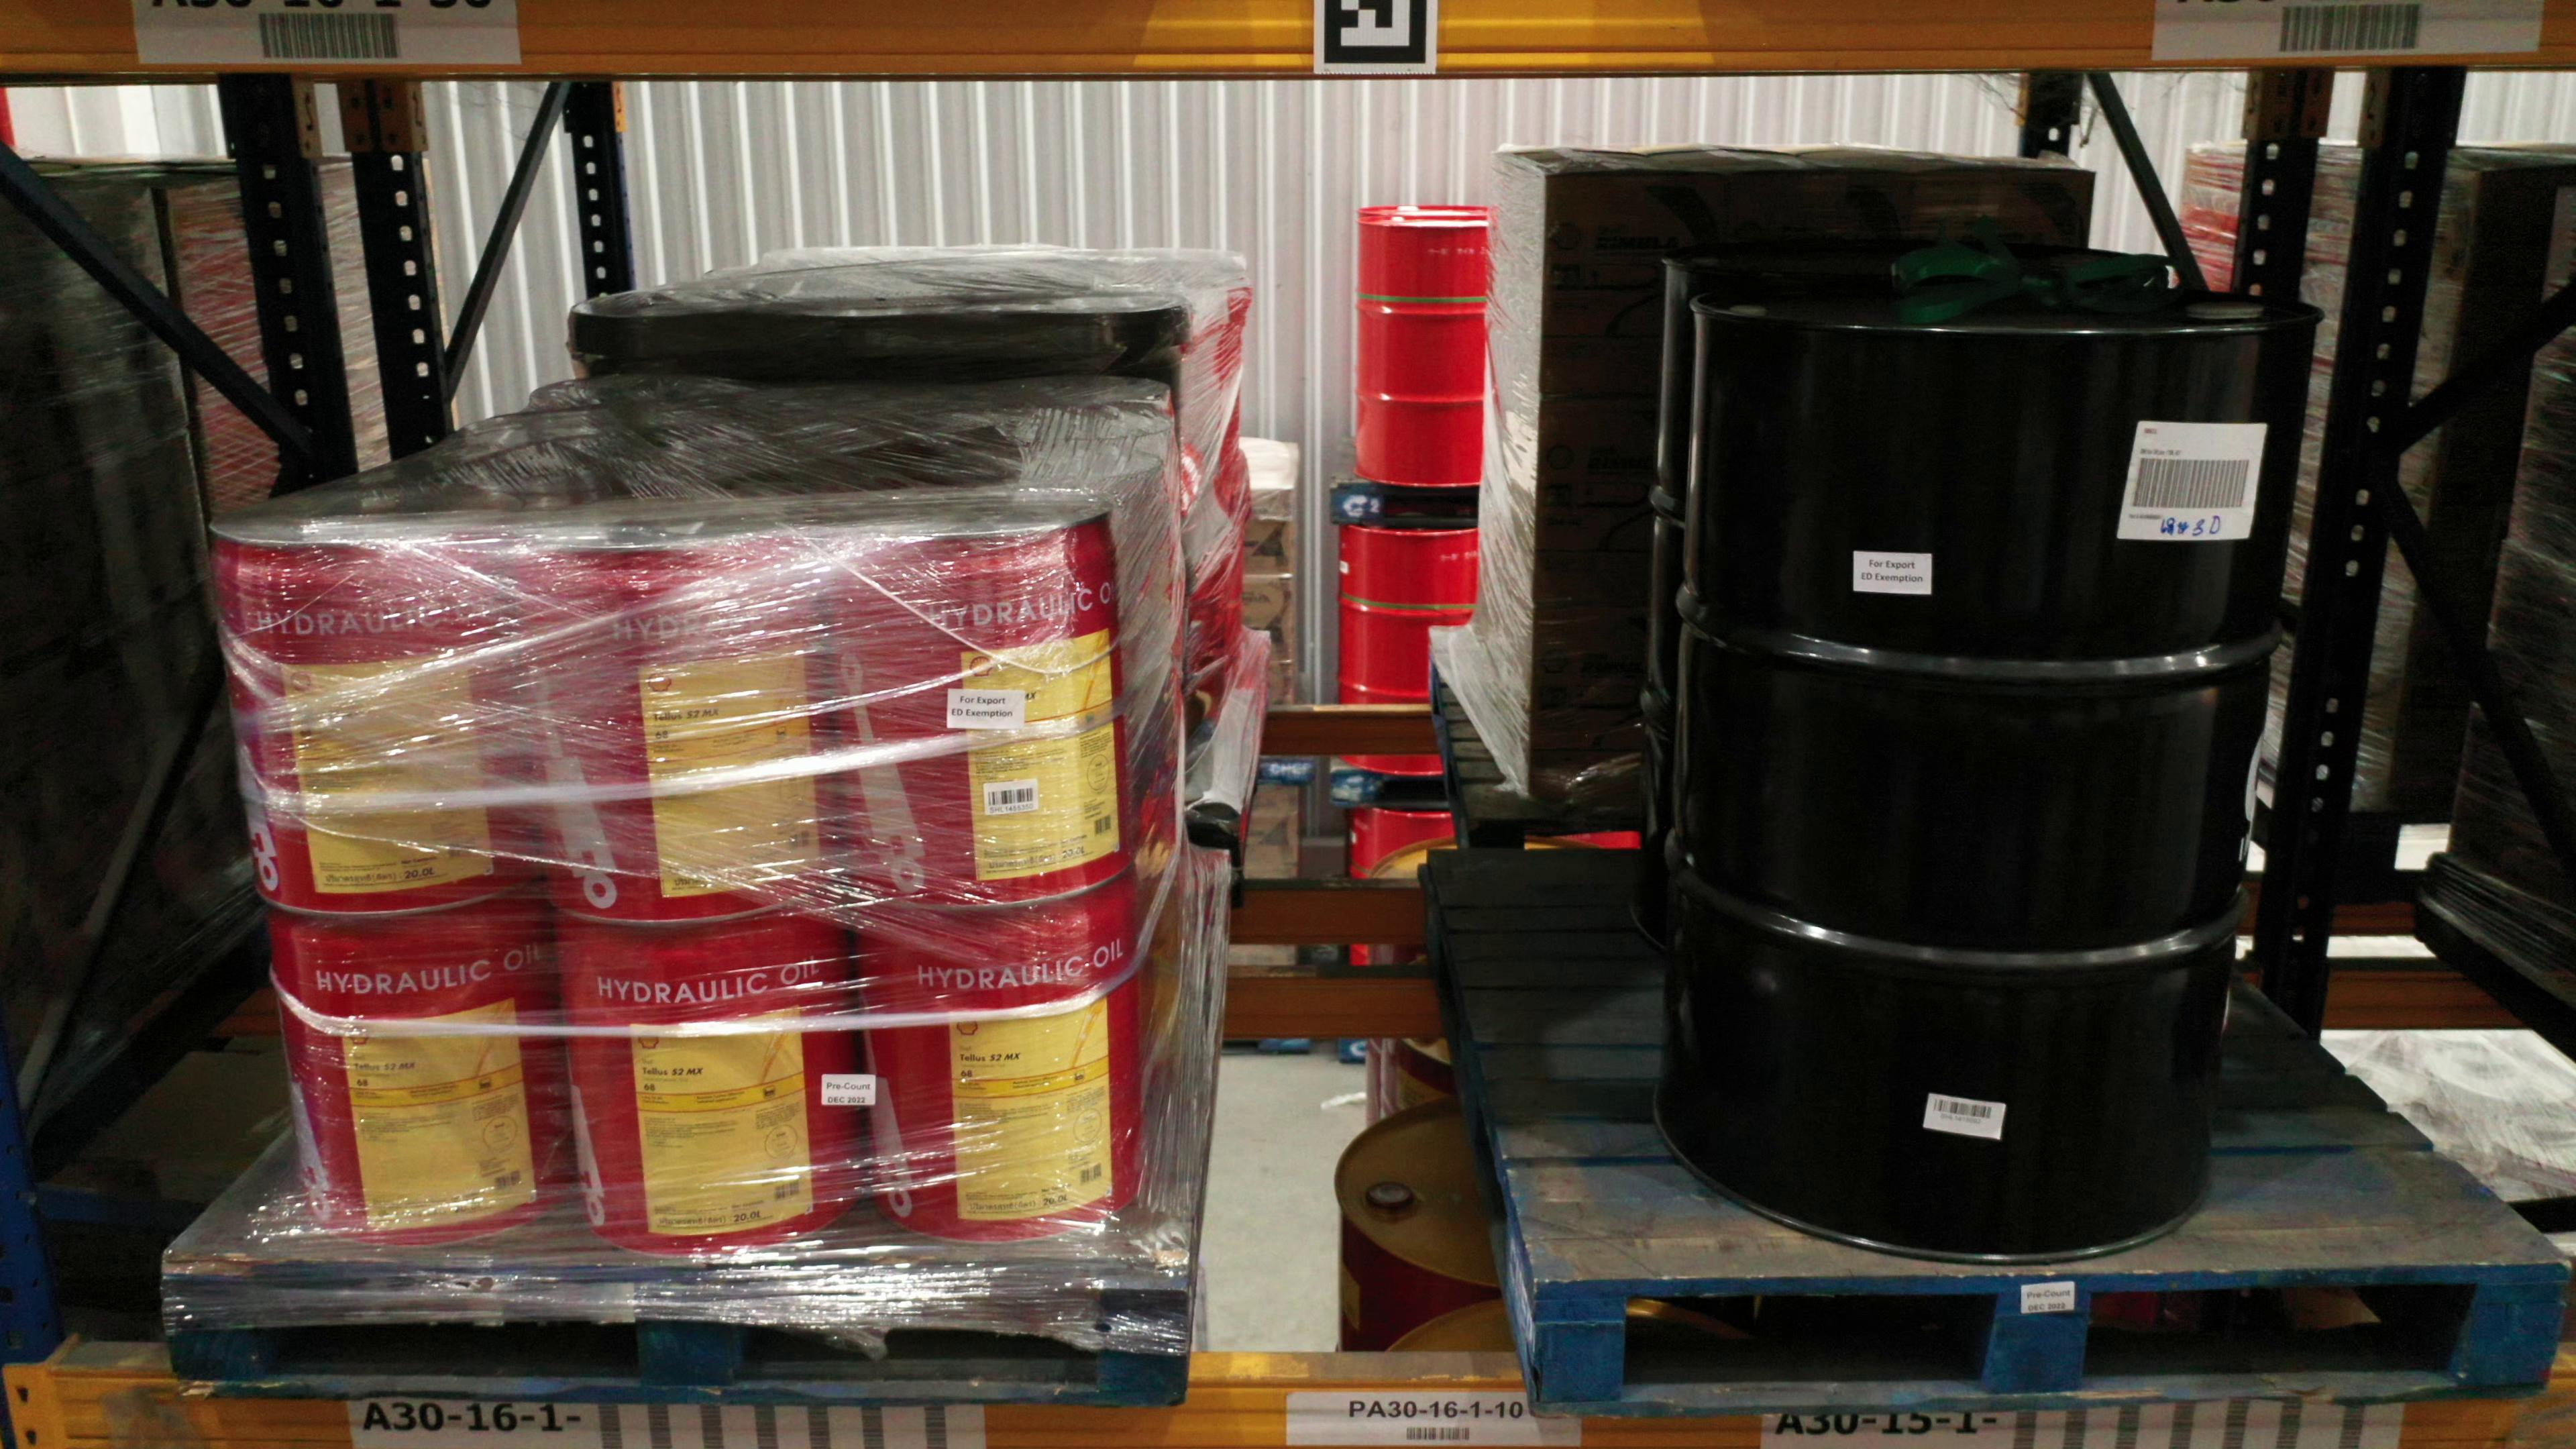-: (1656, 281, 2314, 1258), (205, 525, 536, 916), (524, 525, 837, 922), (835, 518, 1132, 906), (272, 890, 573, 1238), (860, 870, 1143, 1238), (559, 916, 860, 1253)
